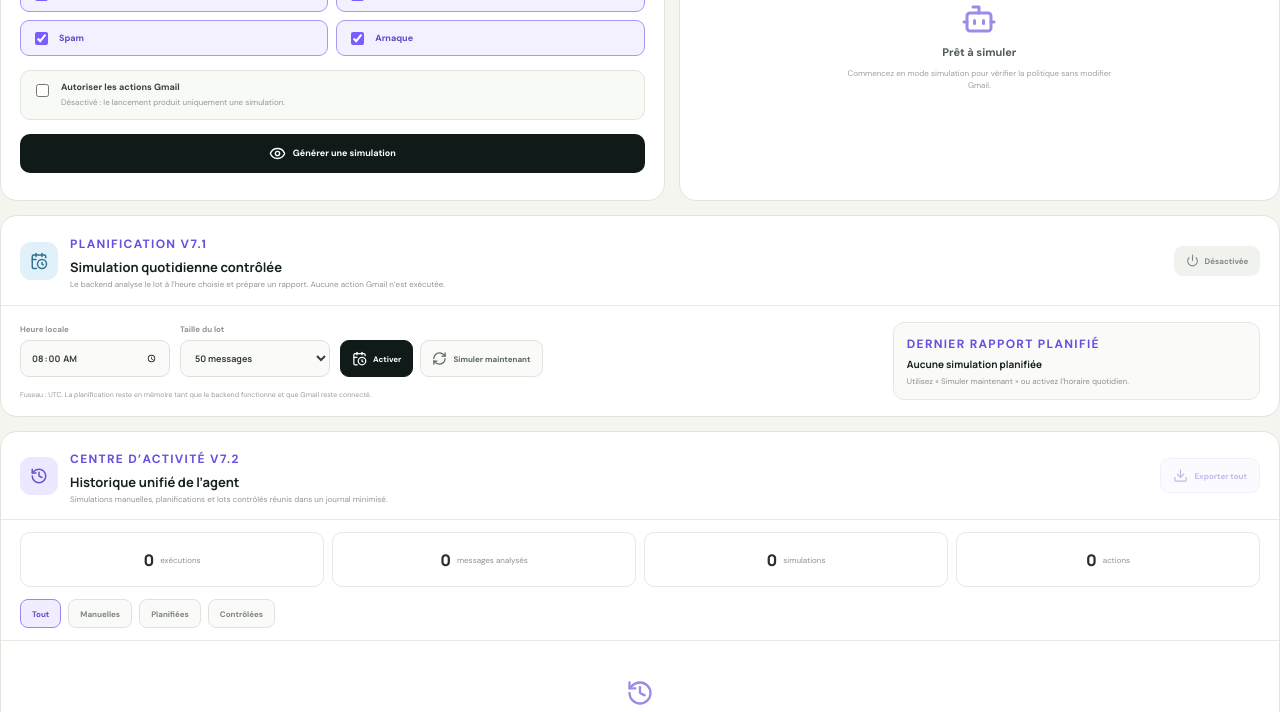
Test: Agent contrôlé V7 › active une planification qui reste une simulation
This screenshot has width=1280, height=712.
(page scrolled)
What coordinates should you click on to do the following:
click the button "Activer"
I would click on:
 (377, 359)
Its box is x1=340 y1=340 x2=413 y2=377.
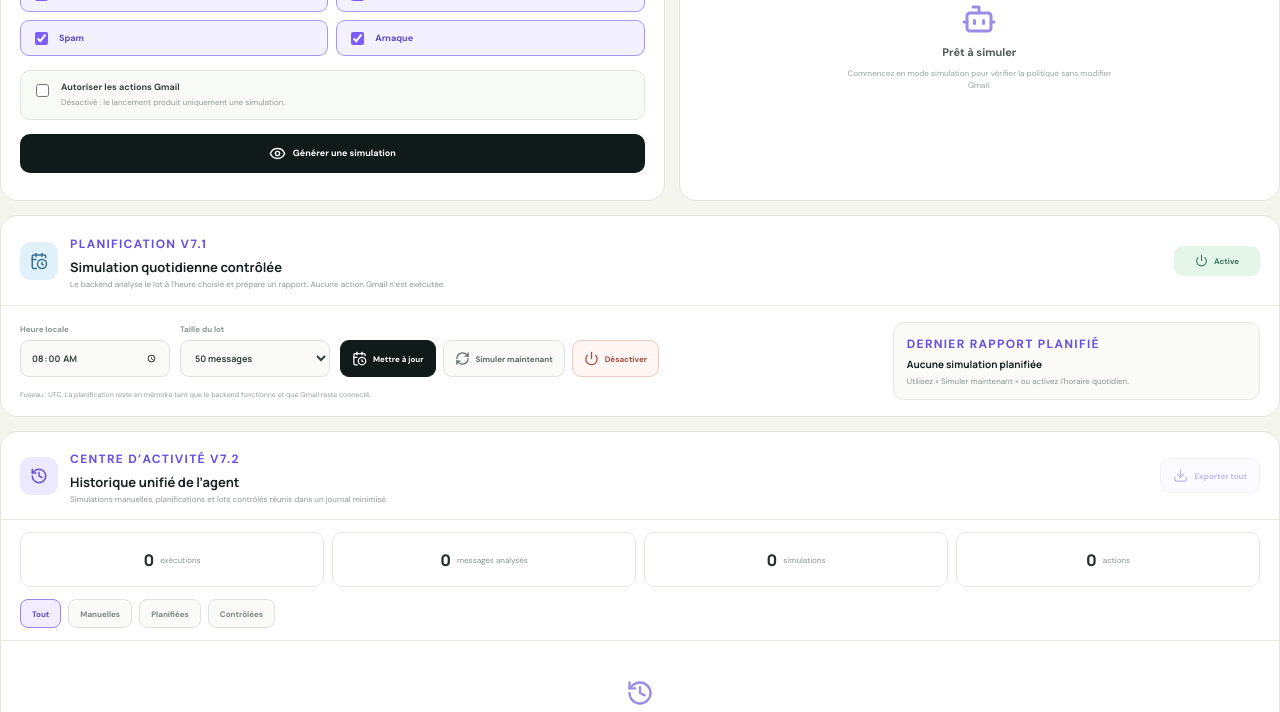
Check: the text "Active" is shown, box x1=1174 y1=246 x2=1260 y2=276
